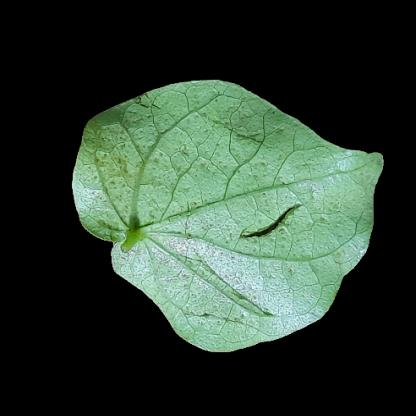healthy: (129, 176, 323, 282), (105, 124, 280, 220), (291, 148, 361, 252), (164, 283, 286, 330)
